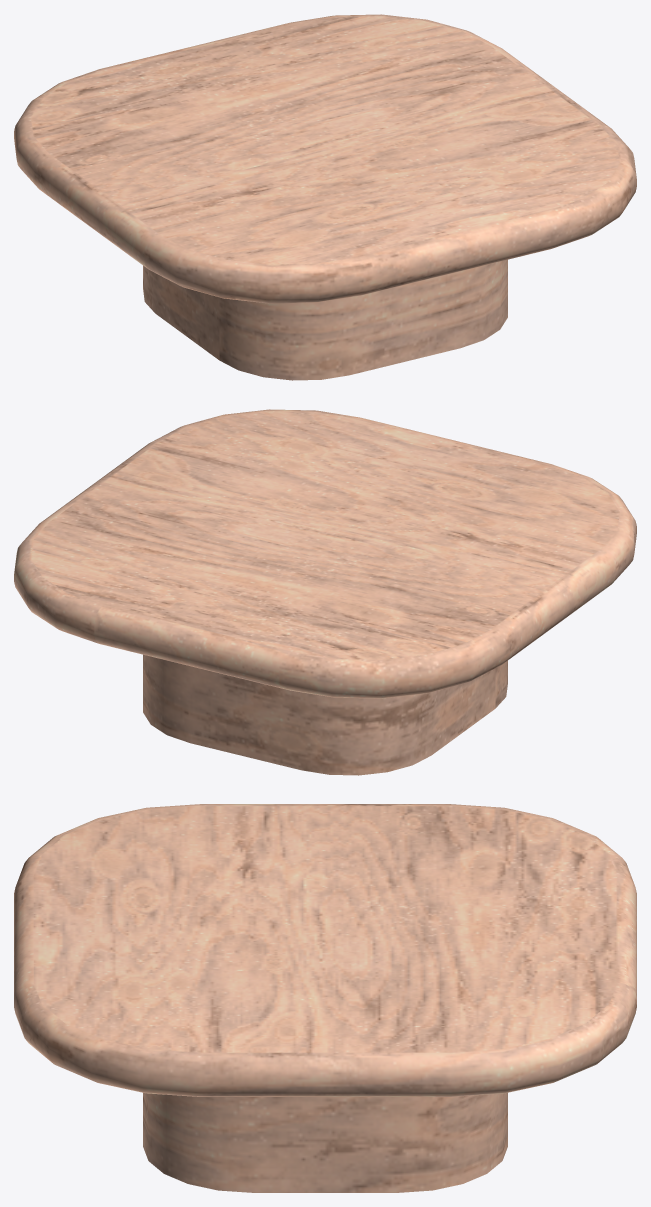
The model's file is CoffeeTable_Sq_Rough3.glb.
3 renders of one model, top to bottom at view 1: azimuth 30°, elevation 25°; view 2: azimuth 150°, elevation 25°; view 3: azimuth 270°, elevation 25°, orthographic. The views are drawn at different scales.
Visible parts, largest first — view 1: Cube.007, Cube; view 2: Cube.007, Cube; view 3: Cube.007, Cube.
Part boxes in pixels (<box>): Cube.007: <box>14,14,636,303</box>; Cube: <box>143,259,507,380</box>; Cube.007: <box>14,409,636,698</box>; Cube: <box>143,654,507,775</box>; Cube.007: <box>14,804,636,1096</box>; Cube: <box>143,1093,507,1192</box>.
Size of the model in its own units: 1.53 by 0.5061 by 1.53.
Materials: 1 (1 with a texture image).
